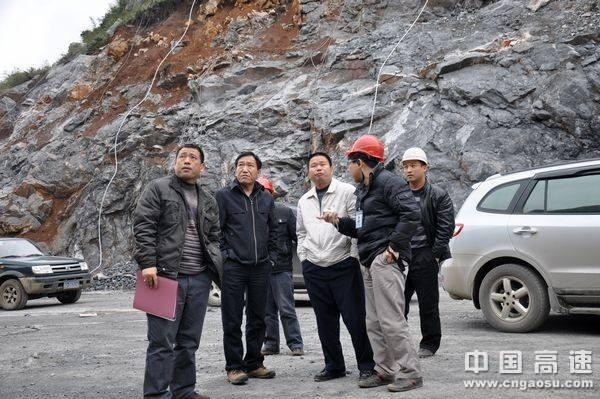helmet: (346, 134, 386, 164), (401, 148, 429, 166)
no-gloves: (316, 207, 340, 231), (140, 266, 159, 288)
no-helmet: (175, 142, 205, 158), (234, 150, 264, 165), (307, 153, 332, 165)
no-shoes: (314, 364, 347, 382)
no-vest: (134, 174, 222, 290), (340, 168, 423, 268), (213, 181, 281, 266), (296, 178, 360, 268), (404, 181, 456, 262)
person: (315, 136, 425, 394), (132, 143, 225, 399), (214, 150, 280, 384), (295, 152, 360, 382), (398, 147, 456, 356)
shoes: (358, 372, 395, 390), (386, 376, 424, 392), (246, 364, 278, 380), (227, 365, 248, 383)
